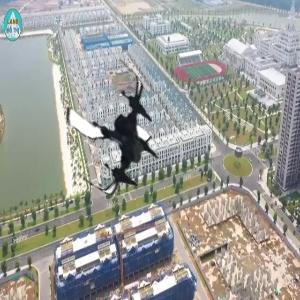drone: (50, 66, 177, 193)
